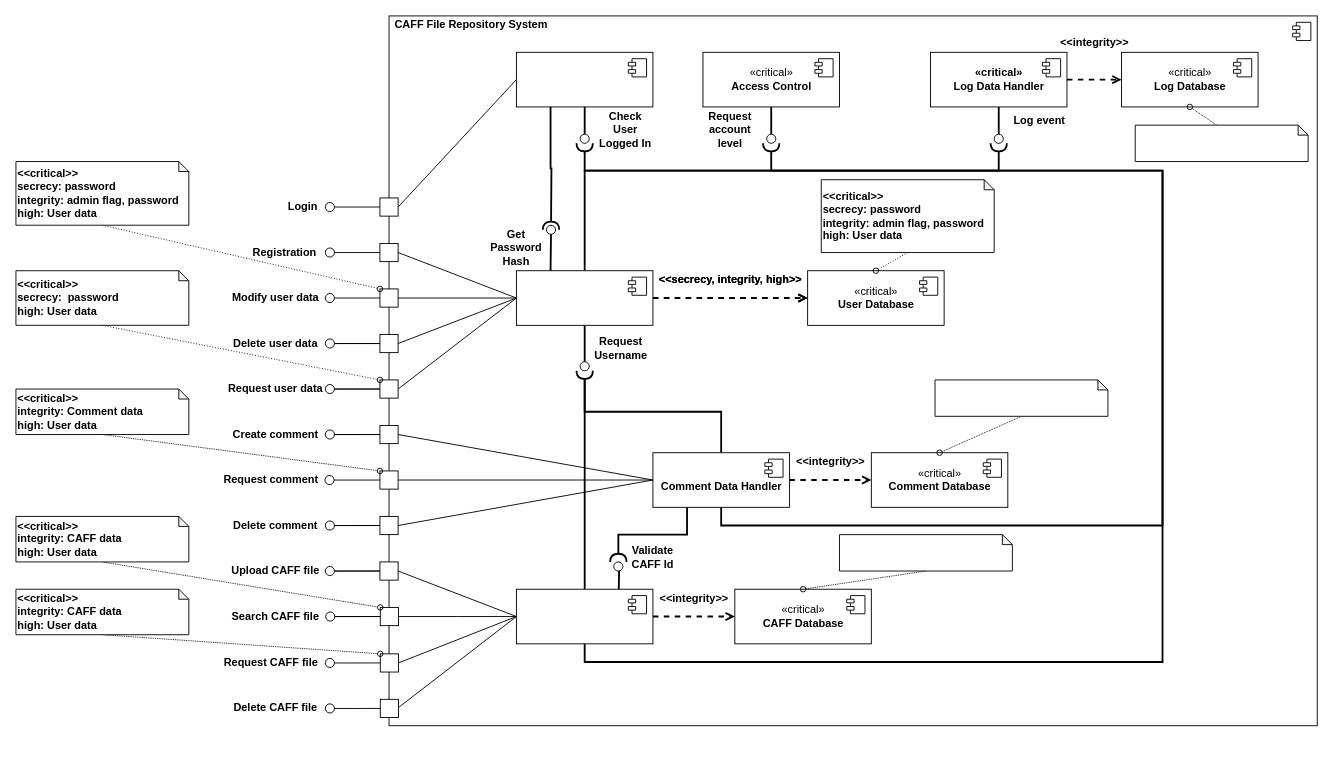
Some shapes in this 1333 by 778 pixel diagram are drawn without their labels. Here are the shapes that lost their labels. From the top down, the centre of each, then its label:
At pixel 584 79: "«critical» Authenticator".
At pixel 1221 143: "<<critical>> integrity: Log data".
At pixel 584 297: "«critical» User Data Handler".
At pixel 1021 397: "<<critical>> integrity: Comment data".
At pixel 925 552: "<<critical>> integrity: CAFF data".
At pixel 584 616: "«critical» CAFF Data Handler".
